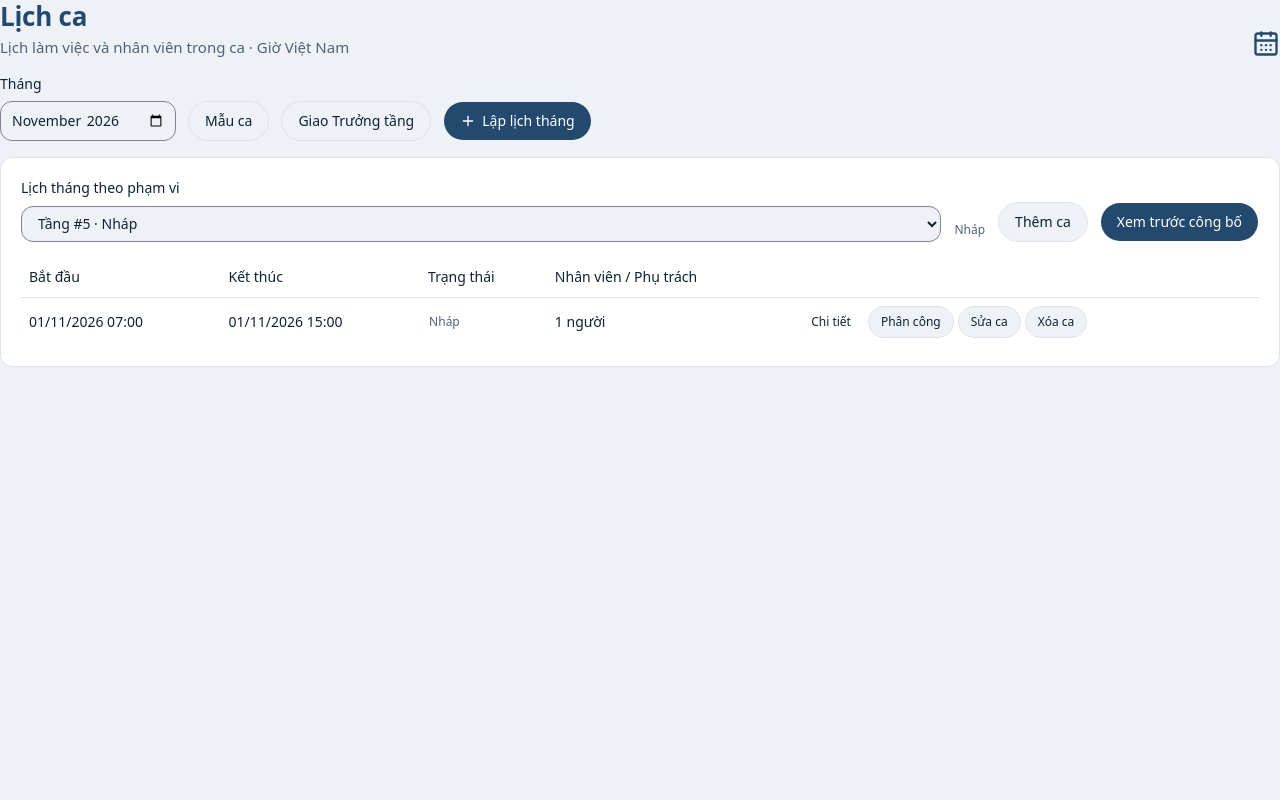
Test: FR_025_moPhanCongCuaCa_vaGiaoTruongTangTuLich
Click the button "Phân công": (911, 322) [868,306,954,338]
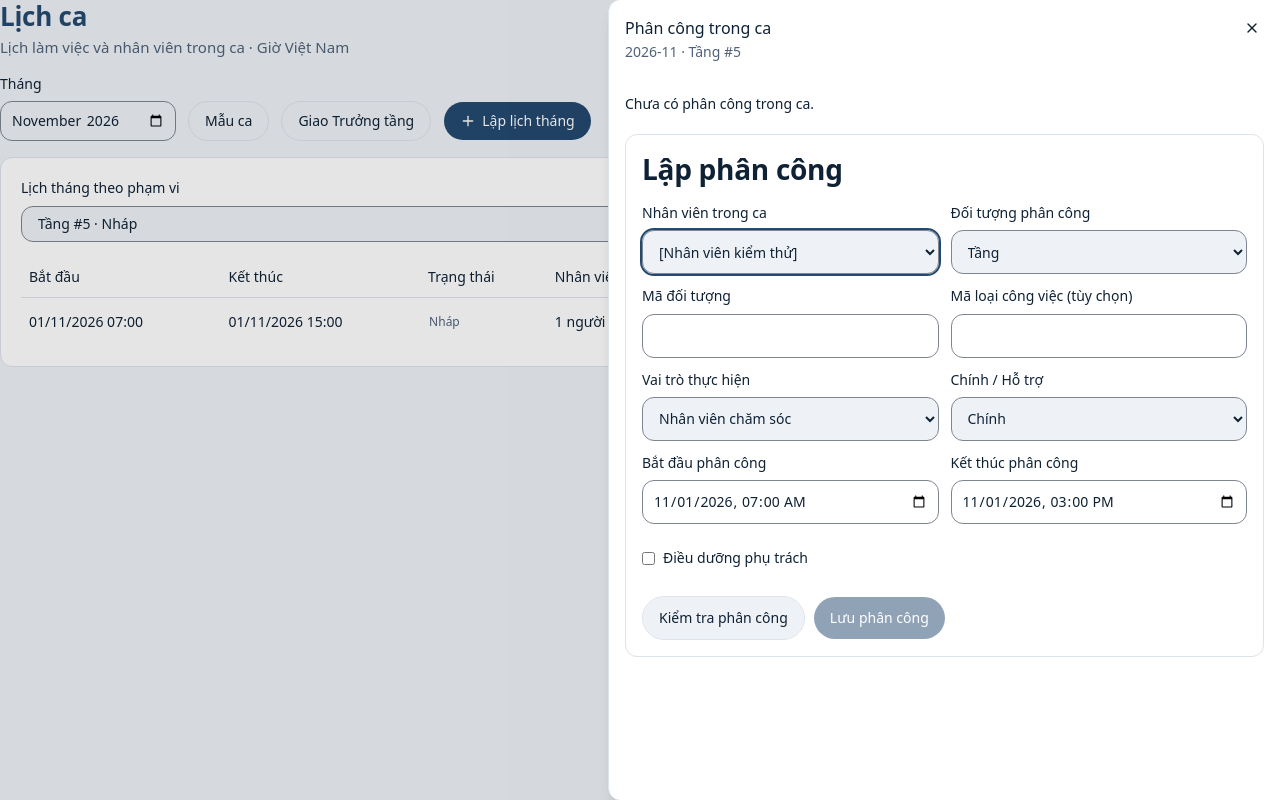
Now the text "Chưa có phân công trong ca." is shown, box [625,94,814,113]
Press Escape
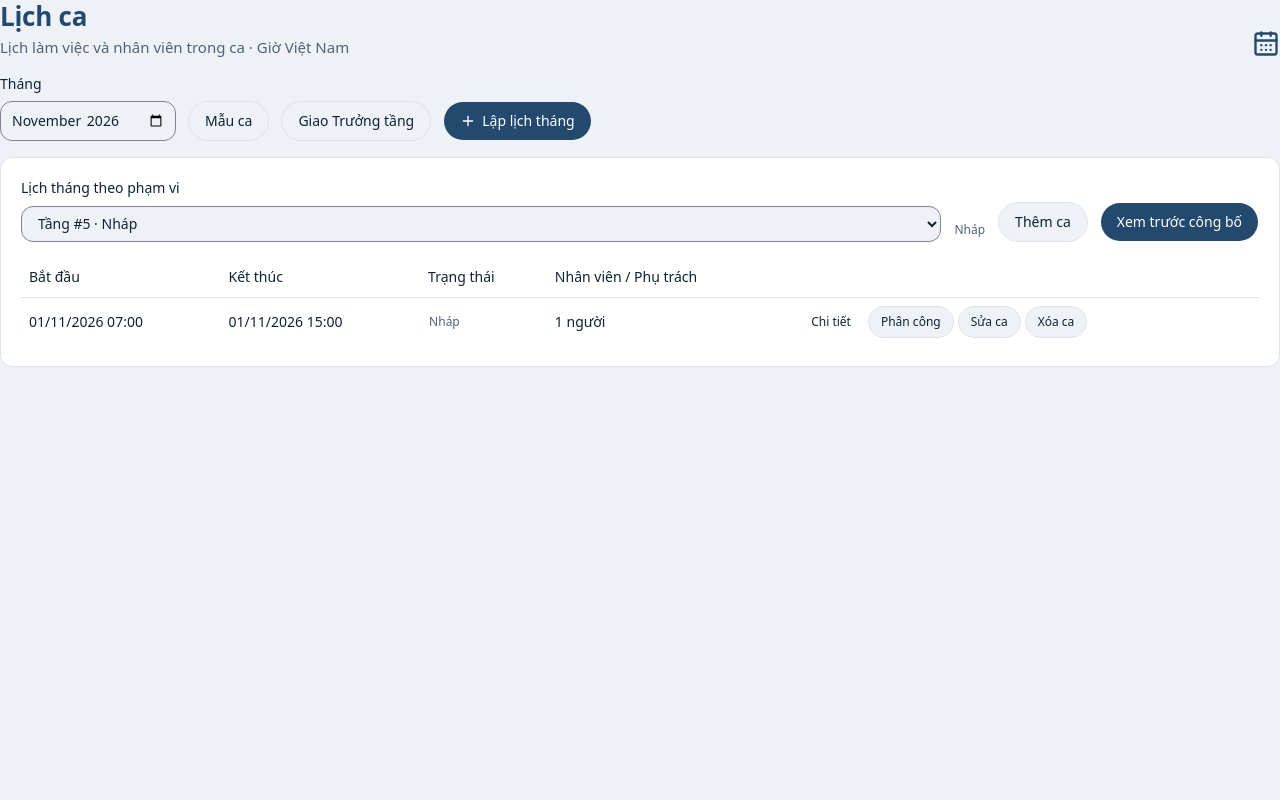
Now the dialog is gone
Click the button "Giao Trưởng tầng": (356, 121) [281,101,431,141]
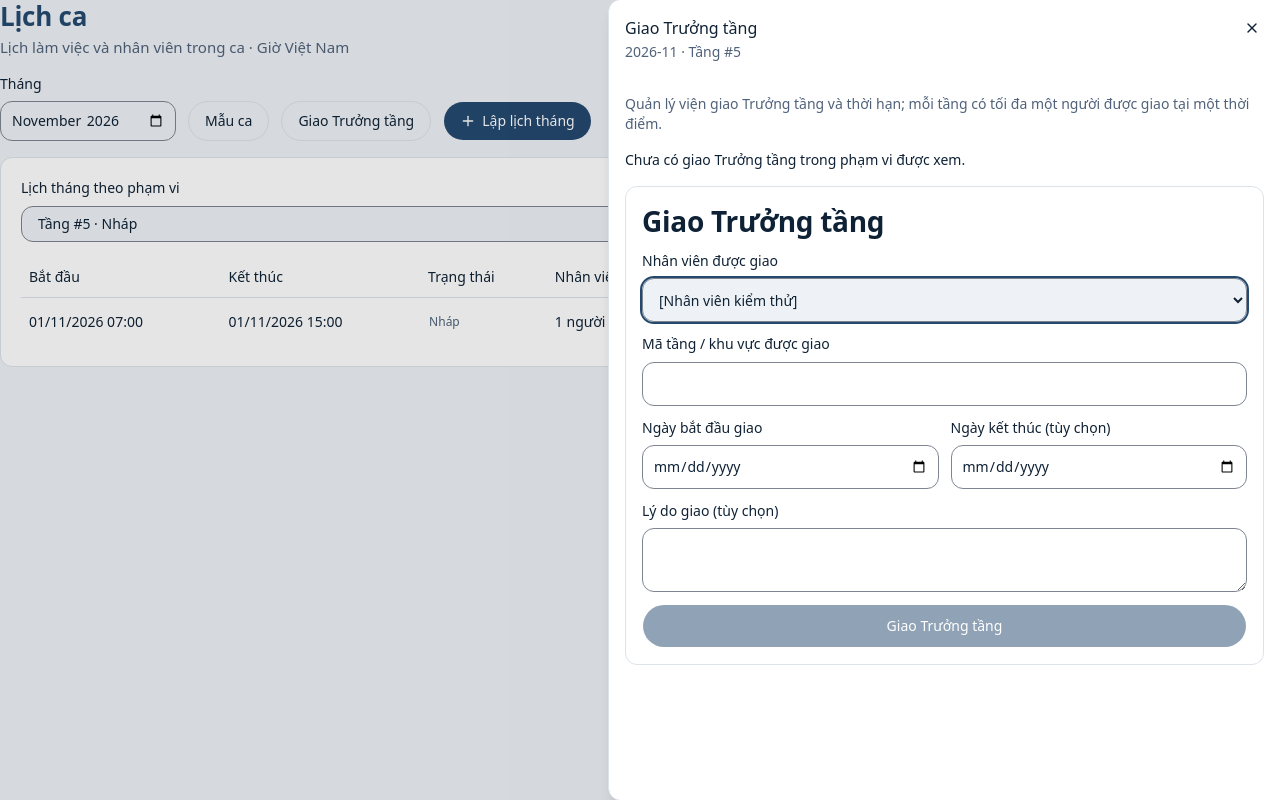
Now the date field labelled "Ngày bắt đầu giao" is shown, box [642,445,938,489]
